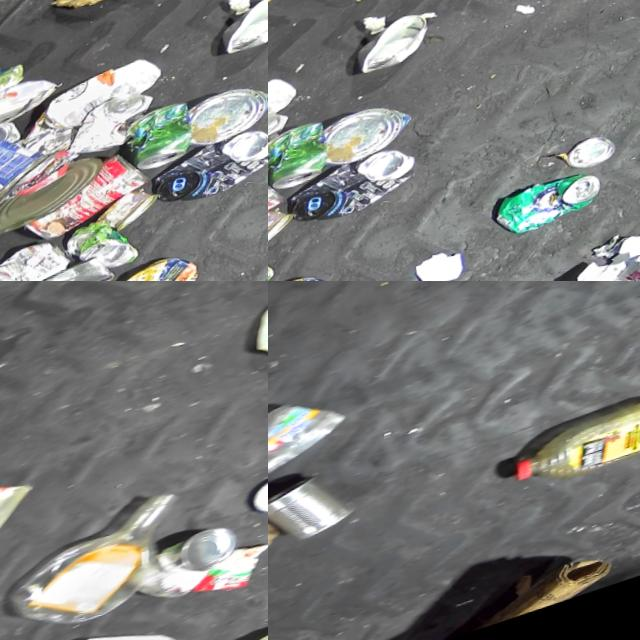can: (18, 148, 162, 251), (289, 146, 429, 239), (133, 521, 256, 620), (152, 127, 268, 220), (0, 155, 115, 241), (268, 467, 370, 559), (497, 175, 615, 252), (64, 90, 166, 168), (323, 100, 423, 177), (0, 117, 61, 227), (123, 105, 204, 183), (186, 81, 268, 157), (354, 15, 442, 84), (66, 213, 151, 281), (268, 124, 340, 202), (0, 74, 65, 138), (97, 188, 169, 243), (0, 235, 84, 281), (3, 254, 131, 281), (217, 0, 268, 65), (268, 167, 298, 270), (115, 253, 214, 281), (268, 109, 302, 186), (568, 142, 624, 185), (268, 206, 304, 261), (0, 118, 27, 162)
non_white_jug: (268, 503, 306, 636)
plastic_bottle: (417, 281, 640, 328)
